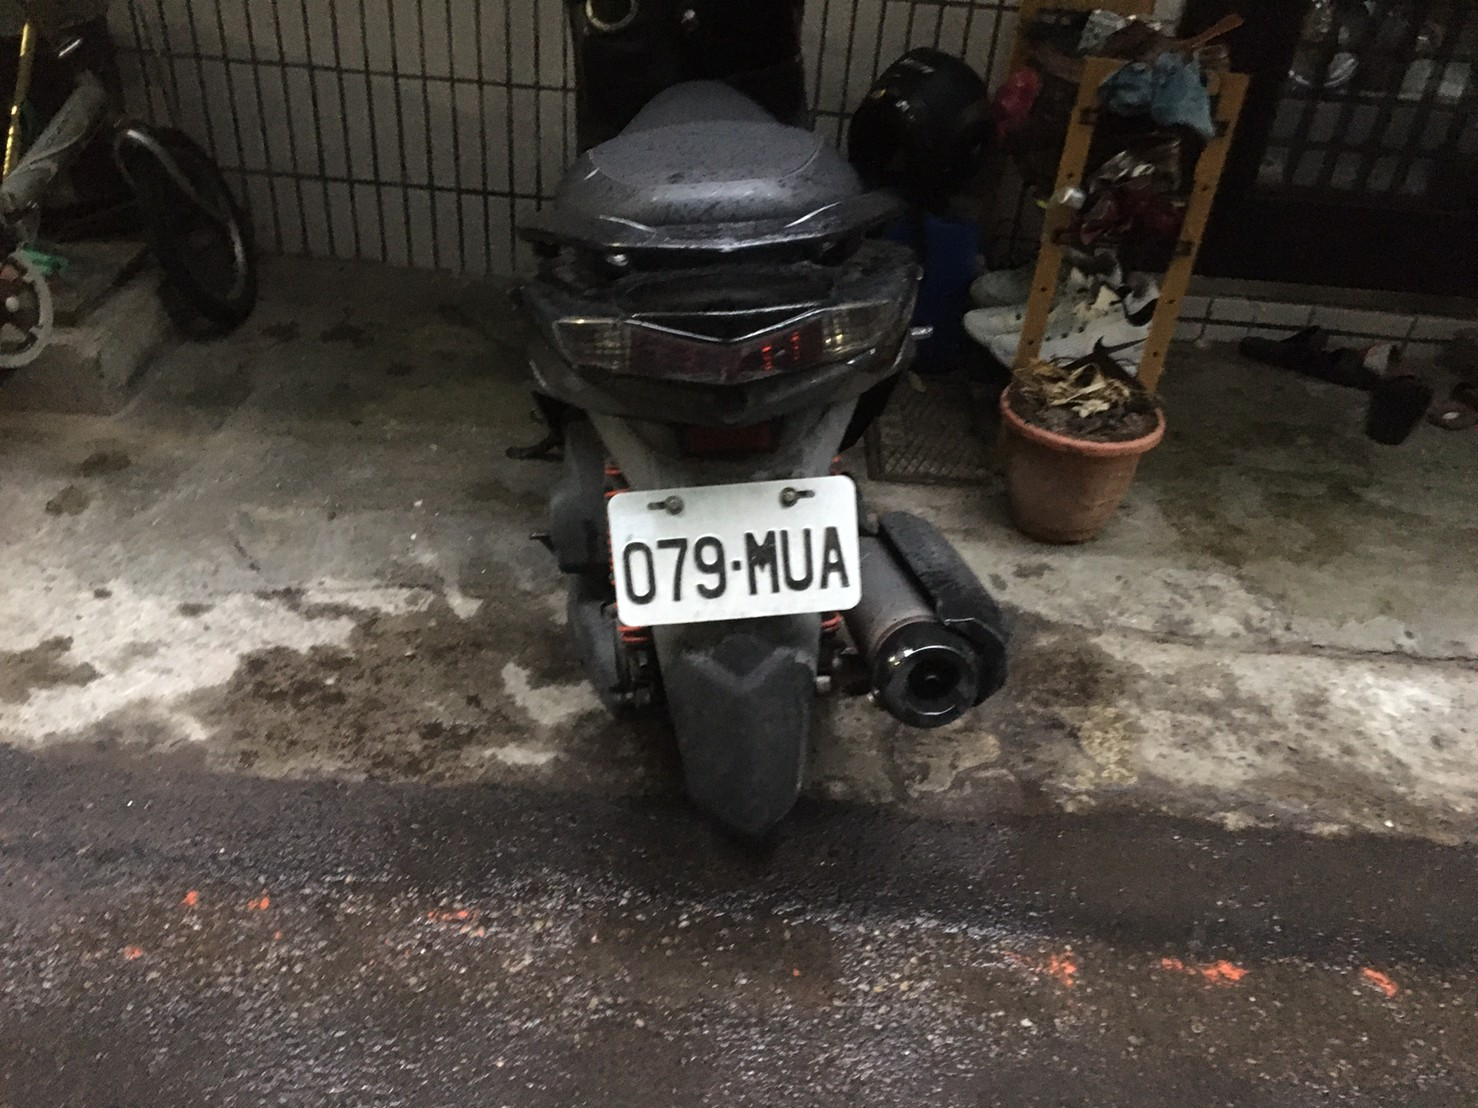LP: (600, 481, 863, 610)
